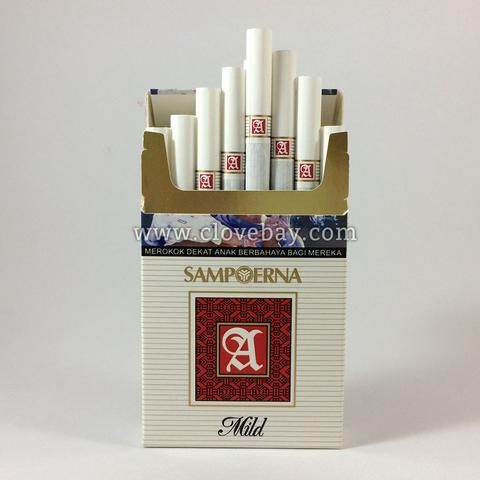A Mild: (134, 254, 348, 453)
